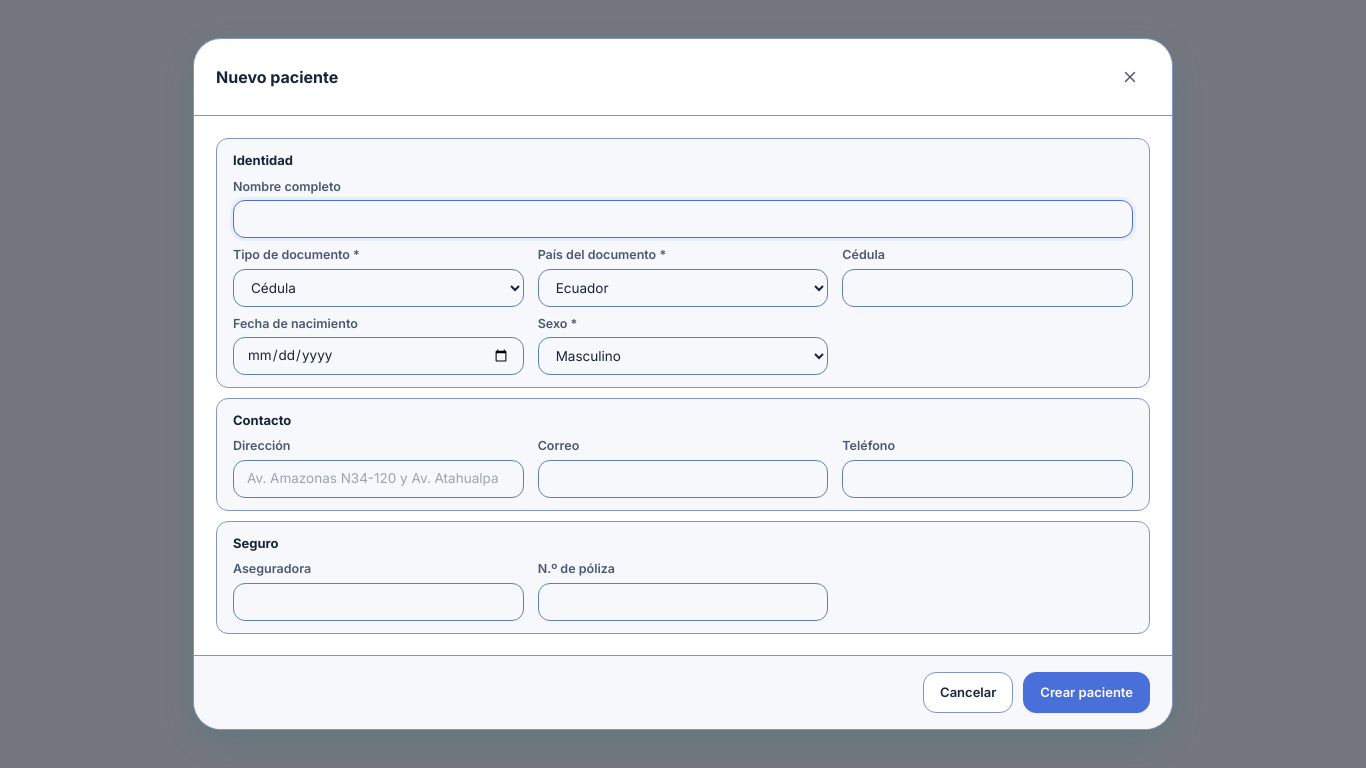
Test: NewPatientModal — never looks frozen › puts a server error on its own field and says the patient was not saved
This screenshot has width=1366, height=768.
Type "Ana Torres" into the field labelled "Nombre completo" at (683, 219), box x1=233 y1=200 x2=1133 y2=238
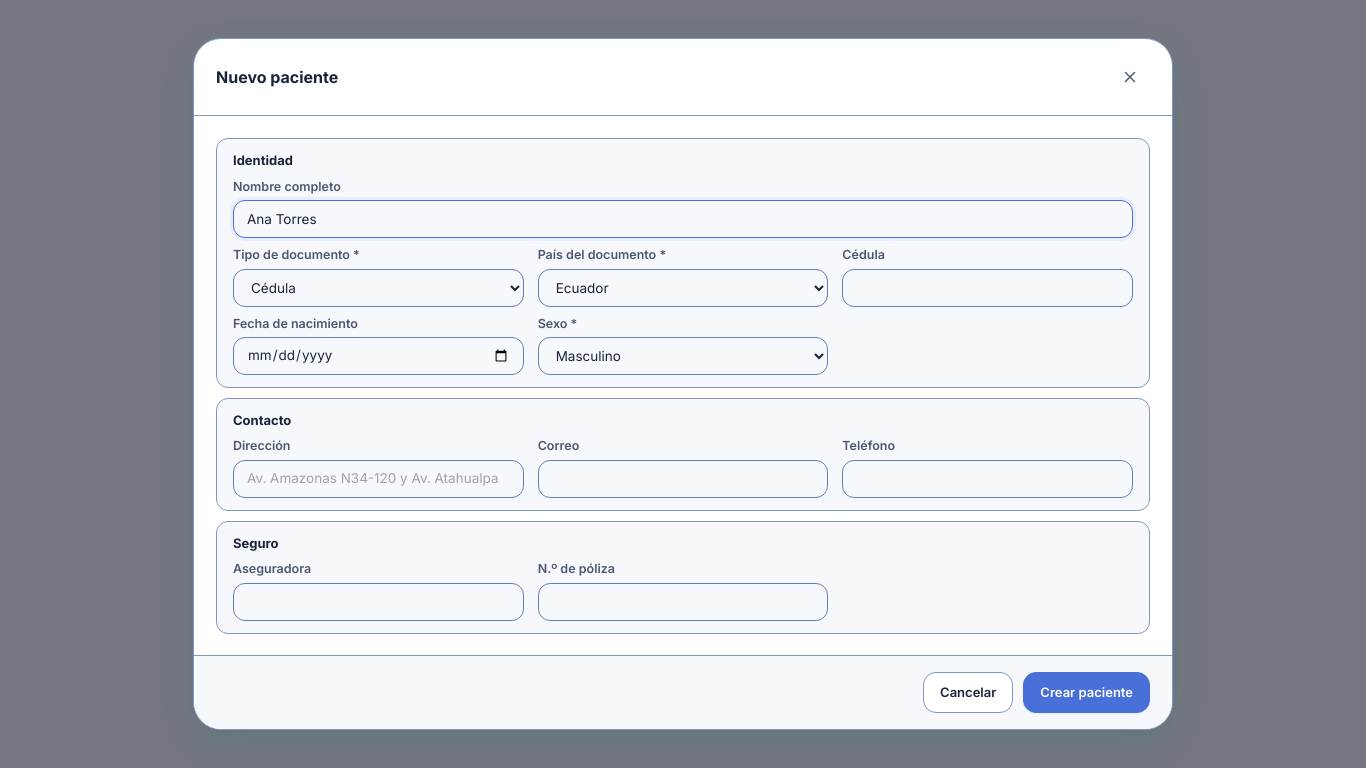
Type "1712345678" into the field labelled "Cédula" at (988, 288), box x1=842 y1=268 x2=1133 y2=306
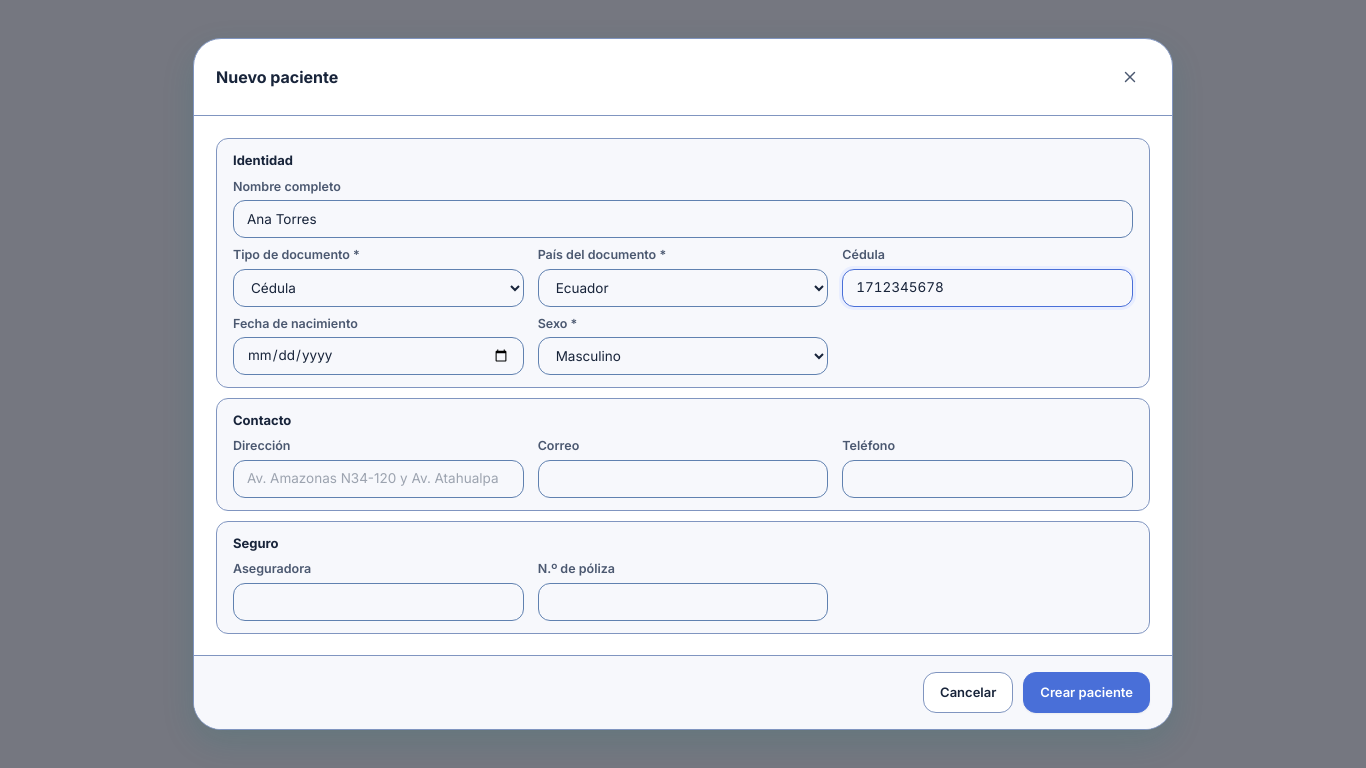
Type "1990-05-11" into the date field labelled "Fecha de nacimiento" at (378, 356), box x1=233 y1=337 x2=524 y2=375
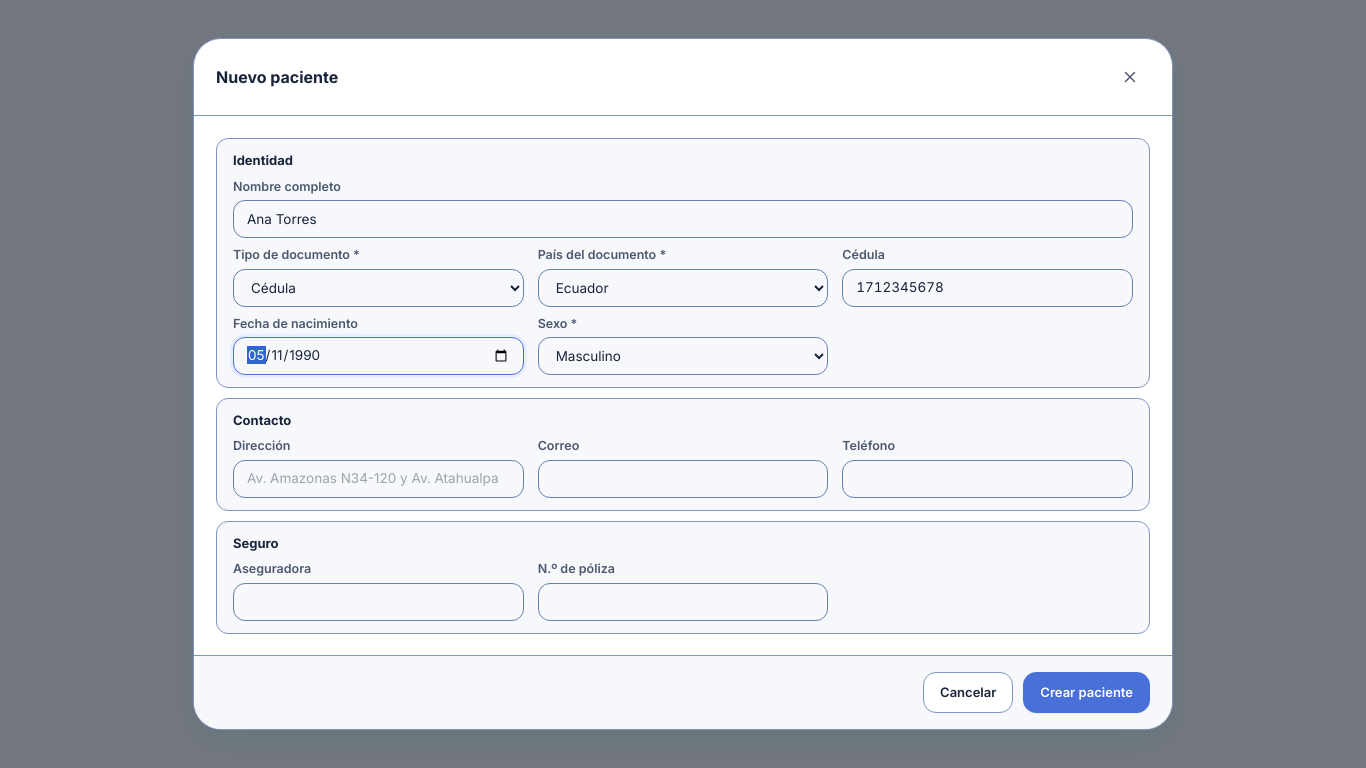
Type "Av. Amazonas" into the field labelled "Dirección" at (378, 479), box x1=233 y1=460 x2=524 y2=498
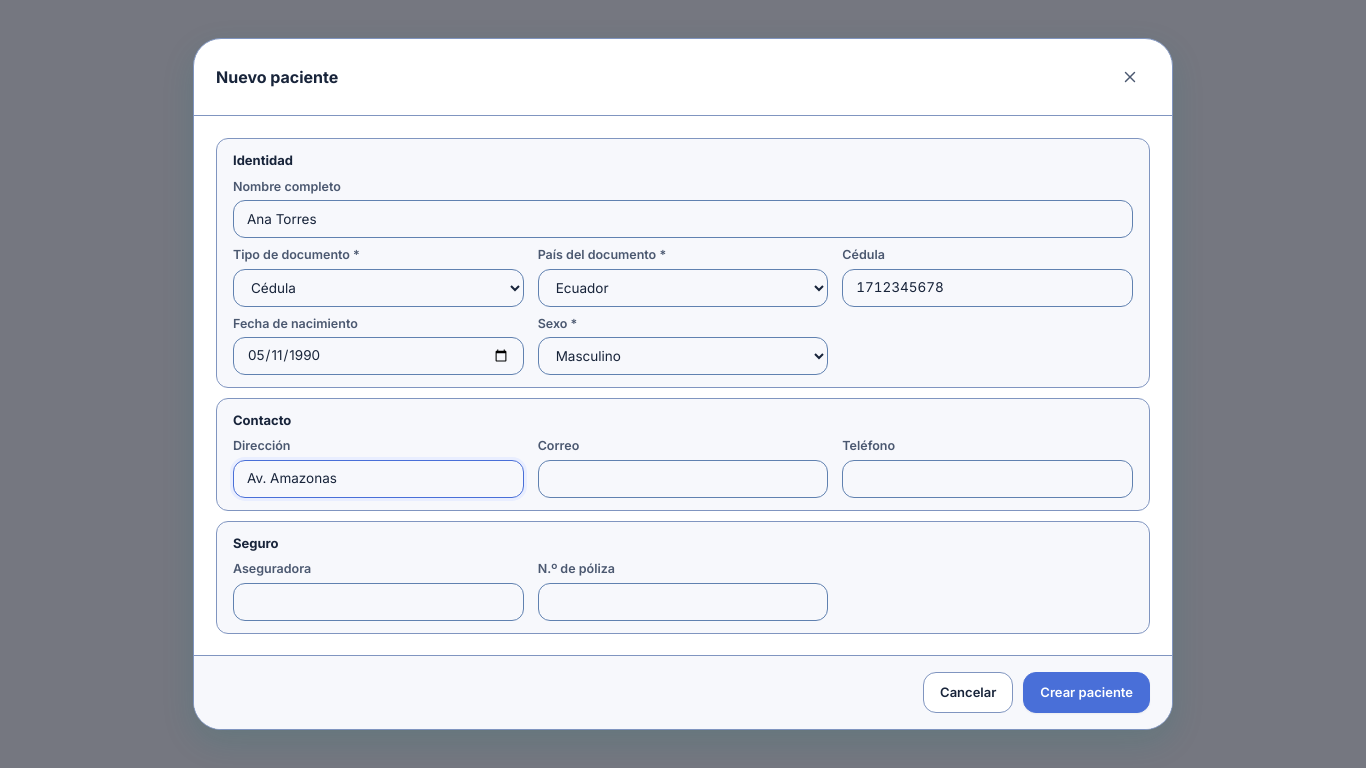
Type "0991234567" into the field labelled "Teléfono" at (988, 479), box x1=842 y1=460 x2=1133 y2=498
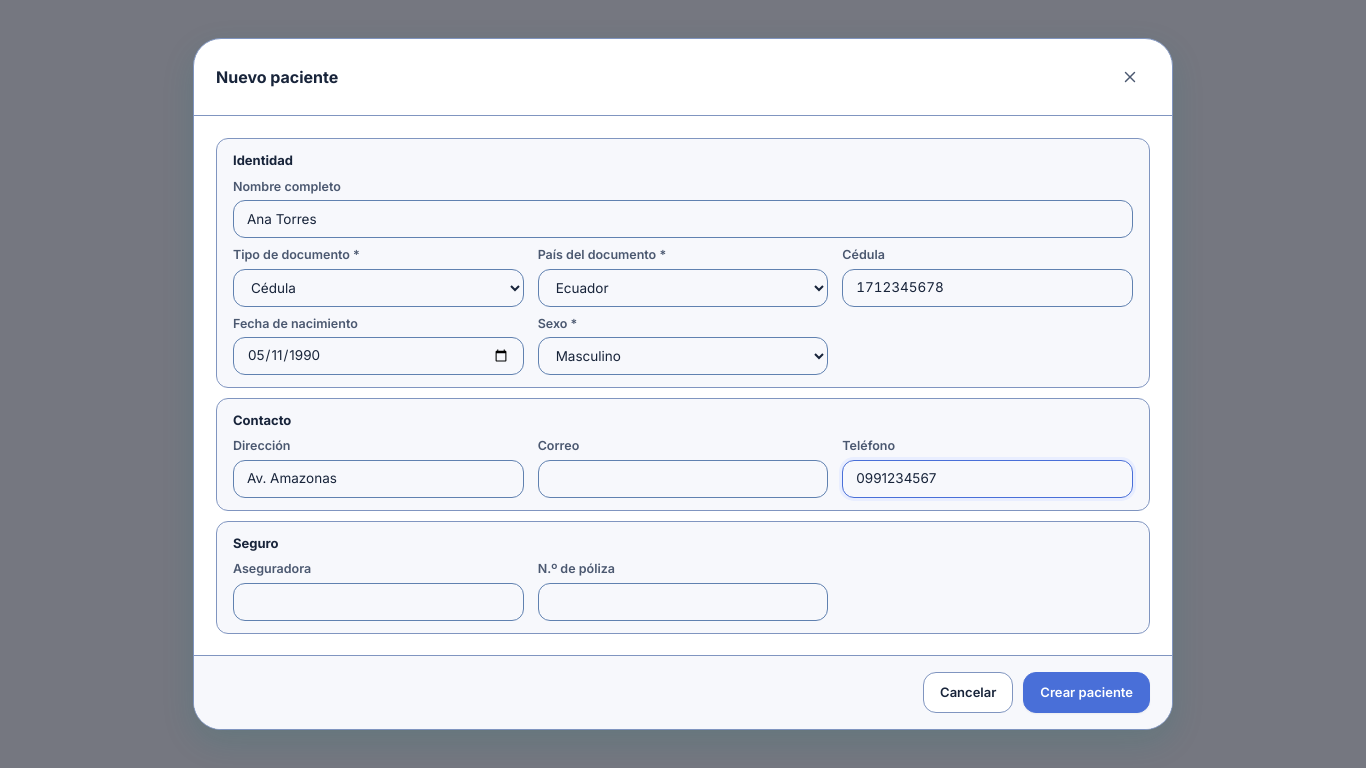
Click the button "Crear paciente" at (1087, 692), box x1=1023 y1=672 x2=1150 y2=713
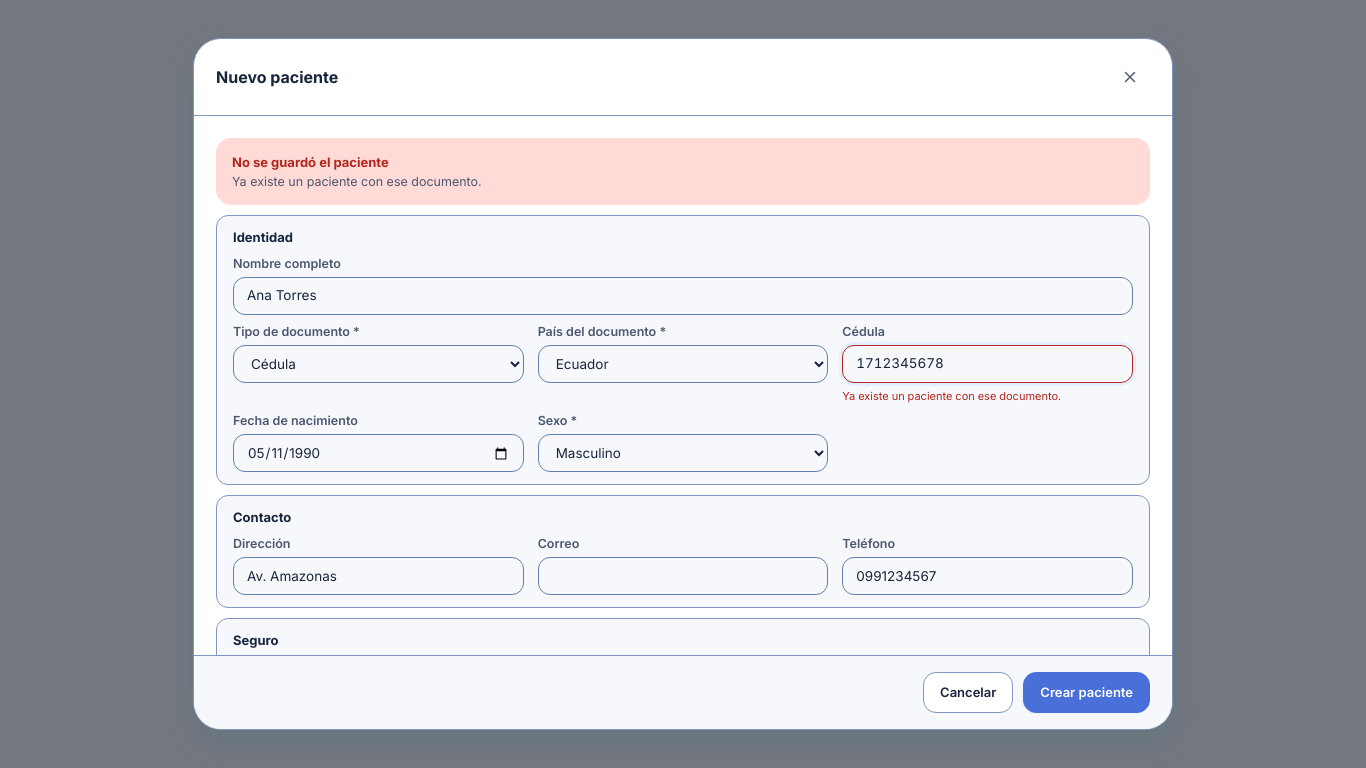
Result: the message "No se guardó el paciente Ya existe un paciente con ese documento." is shown at x1=216 y1=138 x2=1150 y2=205
Result: the text "No se guardó el paciente" is shown at x1=232 y1=154 x2=389 y2=170
